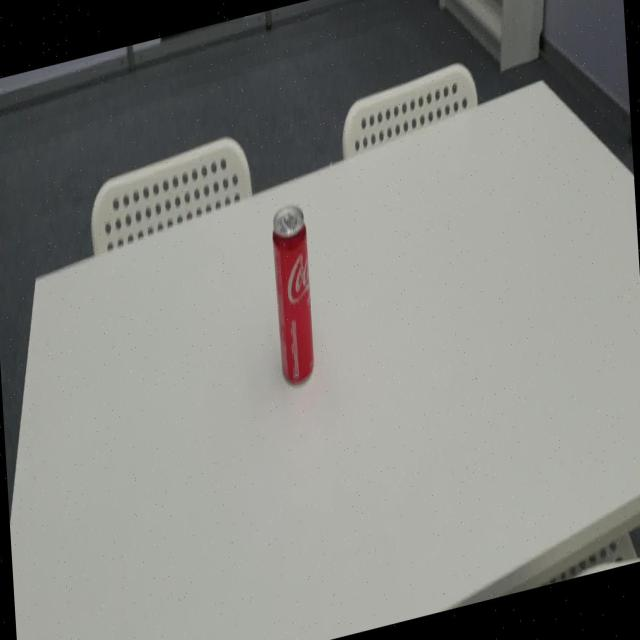coca-cola: (269, 196, 318, 395)
